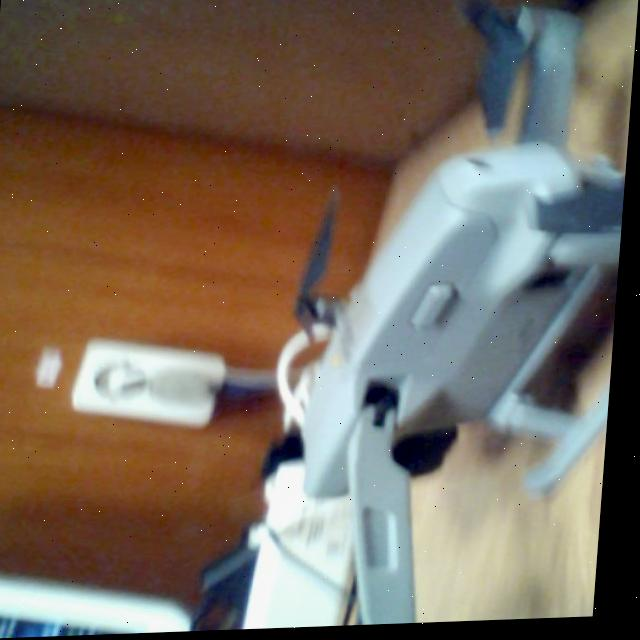drone: (251, 6, 639, 631)
